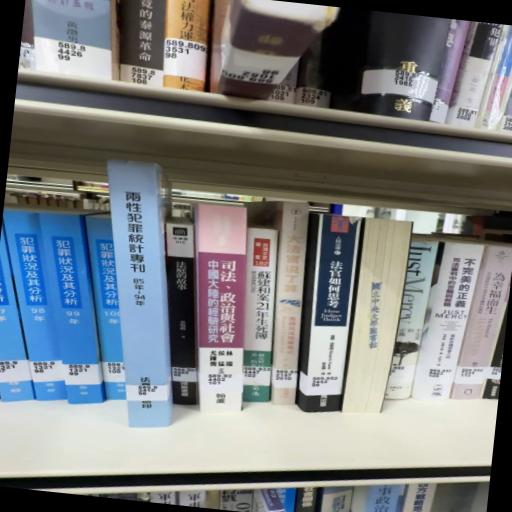backward: (341, 219, 411, 425)
book: (78, 161, 199, 438), (1, 207, 127, 417), (175, 204, 262, 419), (150, 206, 224, 415), (295, 217, 364, 422)
